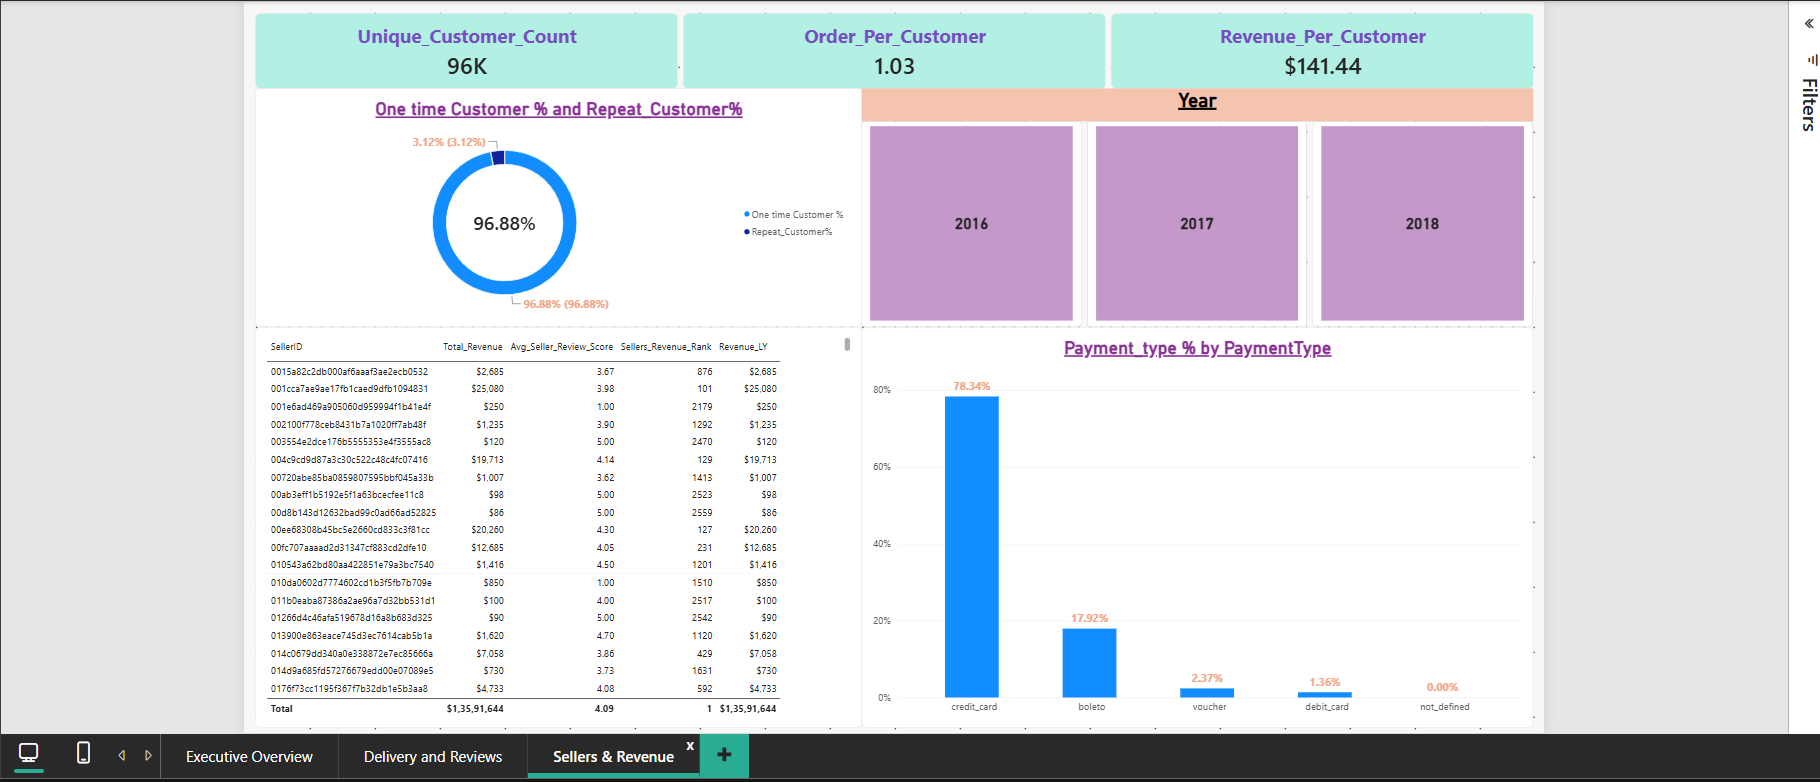

This screenshot's page, from the dashboard's own definition file:
{"tool":"powerbi","page":{"name":"Sellers & Revenue","canvas":[1920,1080],"ordinal":2},"visuals":[{"type":"cardVisual","fields":{"Data":["Measures (2).Unique_Customer_Count","Measures (2).Order_Per_Customer","Measures (2).Revenue_Per_Customer"]},"box":[16,16,1888,112],"z":0},{"type":"donutChart","fields":{"Y":["Measures (2).One time Customer %","Measures (2).Repeat_%"]},"box":[16,128,896,352],"z":1},{"type":"columnChart","fields":{"Category":["gold Fact_Payments.PaymentType"],"Y":["Measures (2).Payment_type %"]},"box":[912,480,992,592],"z":2},{"type":"tableEx","fields":{"Values":["gold dim_Sellers.SellerID","Measures (2).Total_Revenue","Measures (2).Avg_Seller_Review_Score","Measures (2).Sellers_Revenue_Rank","Measures (2).Revenue_LY"]},"box":[16,480,896,592],"z":3},{"type":"advancedSlicerVisual","fields":{"Values":["gold dim_DateTable.Year"]},"box":[912,128,992,352],"z":4}]}

Visuals, with their boxes on the page's 1920x1080 design canvas (x1, y1, x2, y2). These are canvas units, not pixel positions in the 1820x782 screenshot, which may show the page scaled, cropped or inside an application window:
cardVisual - Measures (2).Unique_Customer_Count x Measures (2).Order_Per_Customer: l=16, t=16, r=1904, b=128
donutChart - Measures (2).One time Customer % x Measures (2).Repeat_%: l=16, t=128, r=912, b=480
columnChart - gold Fact_Payments.PaymentType x Measures (2).Payment_type %: l=912, t=480, r=1904, b=1072
tableEx - gold dim_Sellers.SellerID x Measures (2).Total_Revenue: l=16, t=480, r=912, b=1072
advancedSlicerVisual - gold dim_DateTable.Year: l=912, t=128, r=1904, b=480
